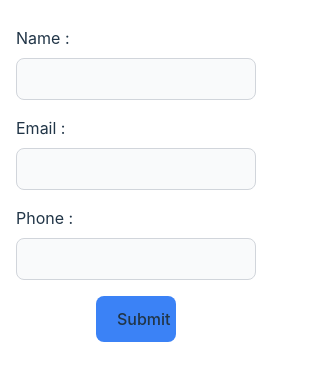
Test case: App component › shows validation email format errors
Type "John Doe" into the field labelled "Name :". click: (136, 79)
box: x1=16 y1=58 x2=256 y2=100
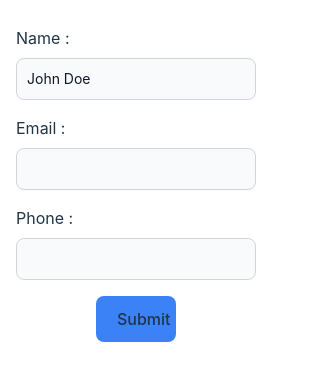
Type "johndoe@example" into the field labelled "Email :". click: (136, 169)
box: x1=16 y1=148 x2=256 y2=190
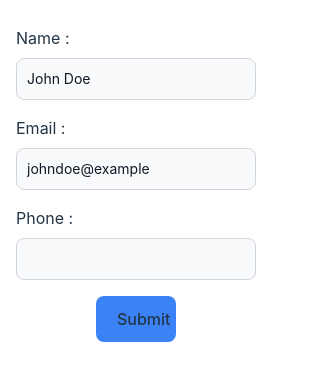
Type "1234567890" into the field labelled "Phone :". click: (136, 259)
box: x1=16 y1=238 x2=256 y2=280
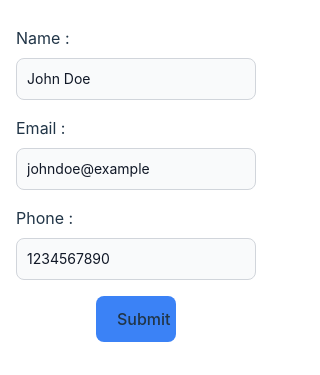
Click the button "Submit". click: (136, 319)
box: x1=96 y1=296 x2=176 y2=342
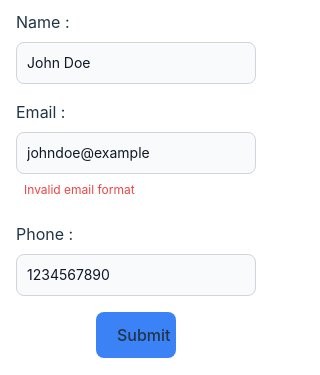
Check: the text "Invalid email format" is shown, box x1=24 y1=182 x2=135 y2=197
